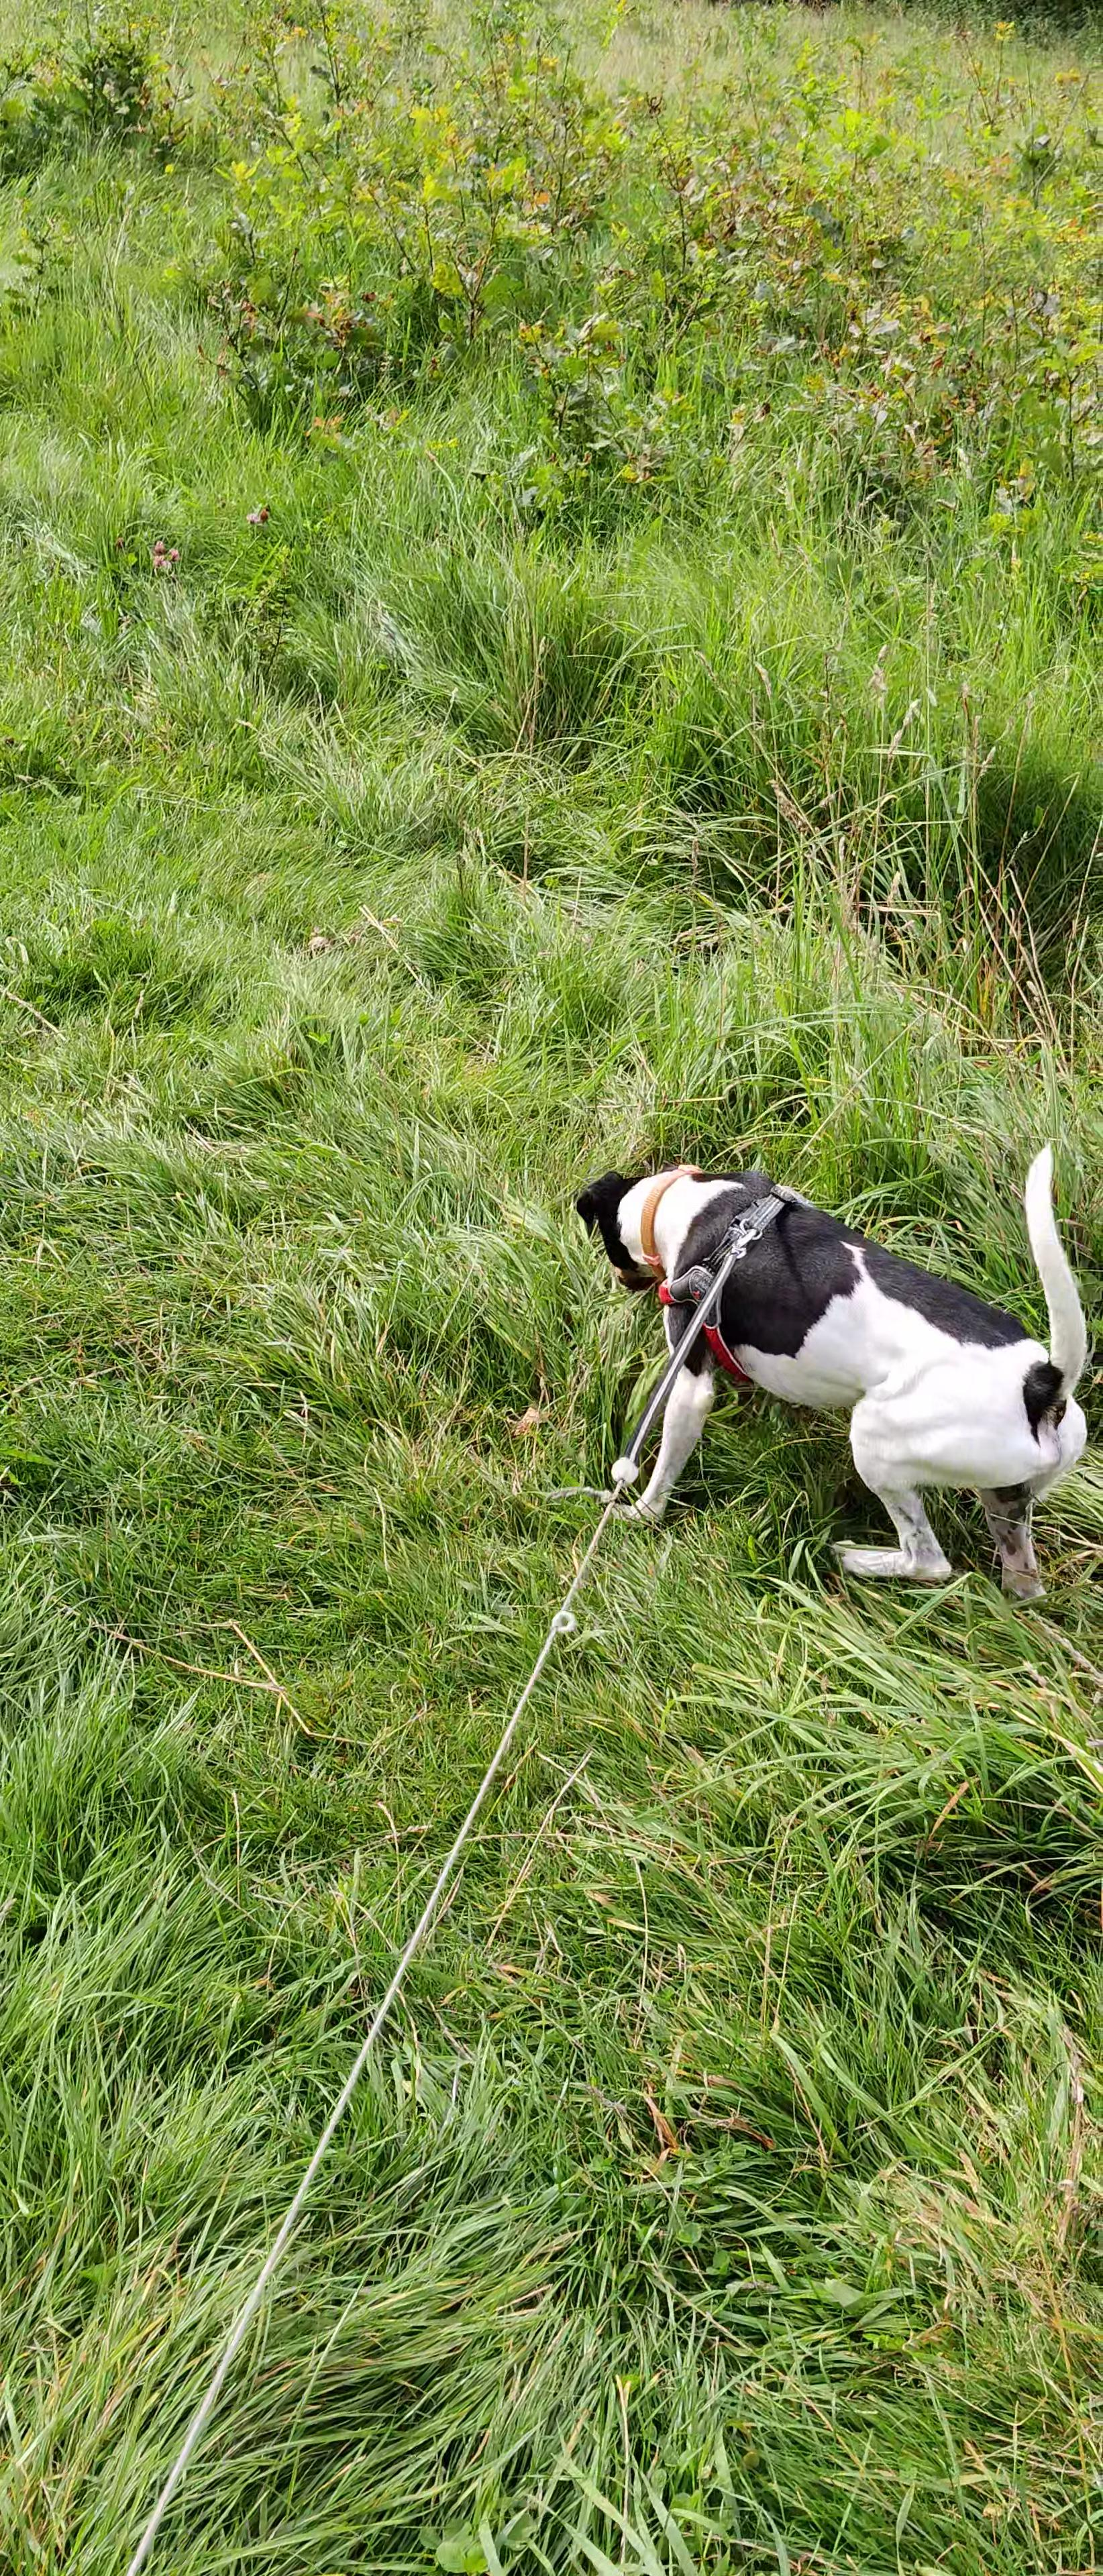Dog: (569, 1135, 1103, 1603)
